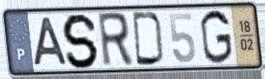5: (167, 11, 197, 65)
A: (32, 16, 70, 69)
D: (131, 10, 167, 68)
G: (199, 8, 235, 67)
R: (95, 10, 136, 69)
S: (61, 11, 101, 70)
